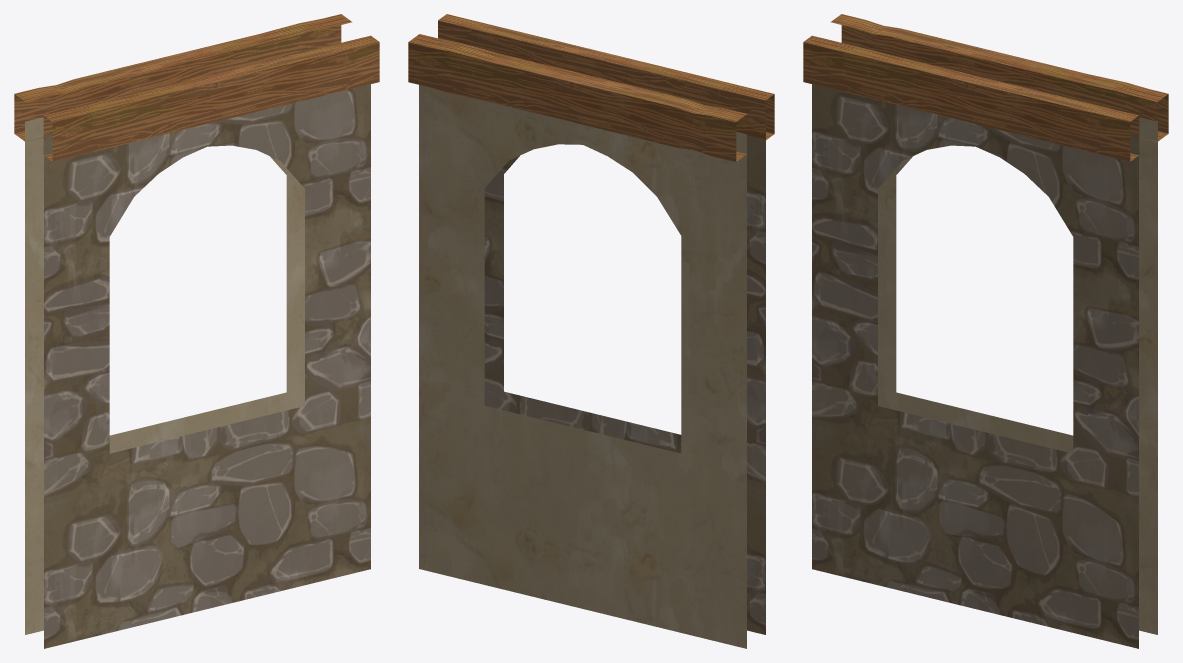
Rendered from Wall_UnevenBrick_Window_Wide_Round.gltf.
The picture shows the model from 3 angles, left to right: view 1: azimuth 30°, elevation 25°; view 2: azimuth 150°, elevation 25°; view 3: azimuth 330°, elevation 25°; orthographic projection.
Visible parts, largest first — view 1: Wall_UnevenBrick_Window_Wide_Round; view 2: Wall_UnevenBrick_Window_Wide_Round; view 3: Wall_UnevenBrick_Window_Wide_Round.
Part boxes in pixels (<box>): Wall_UnevenBrick_Window_Wide_Round: <box>14,14,379,648</box>; Wall_UnevenBrick_Window_Wide_Round: <box>408,14,774,648</box>; Wall_UnevenBrick_Window_Wide_Round: <box>803,14,1168,648</box>.
Size of the model in its own units: 2 by 3.12 by 0.4065.
3 materials, 3 textured.
